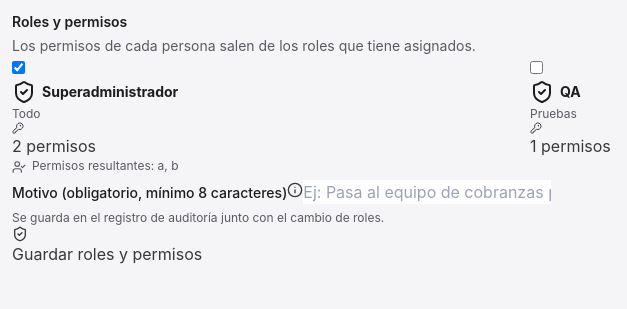
Scenario: UserRolesForm sobre la cuenta de otra persona › no envía sin motivo y dice por qué
Click the checkbox labelled "QA Pruebas 1 permisos" at (536, 68), box x1=530 y1=61 x2=543 y2=74
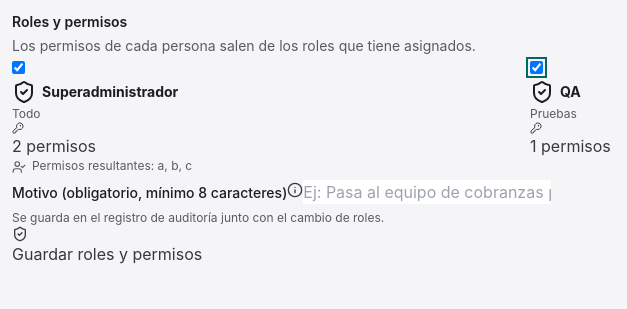
Type "corto" into the field labelled "Motivo (obligatorio, mínimo 8 caracteres)" at (427, 192), box x1=303 y1=180 x2=551 y2=204
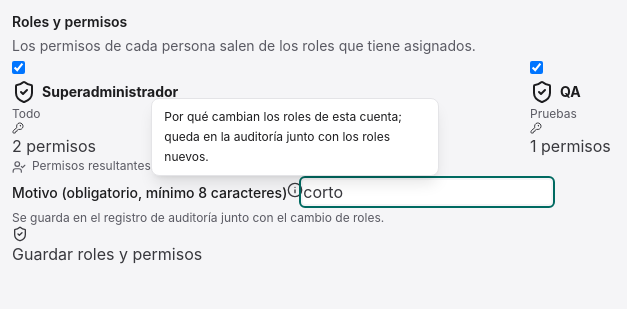
Click the button "Guardar roles y permisos" at (107, 246), box x1=12 y1=226 x2=202 y2=266
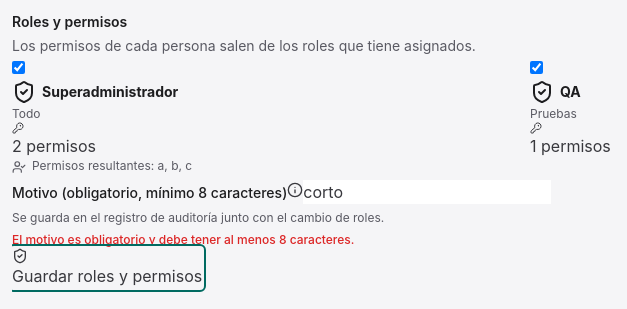
Check: the text "El motivo es obligatorio y debe tener al menos 8 caracteres." is shown, box x1=12 y1=232 x2=354 y2=247
